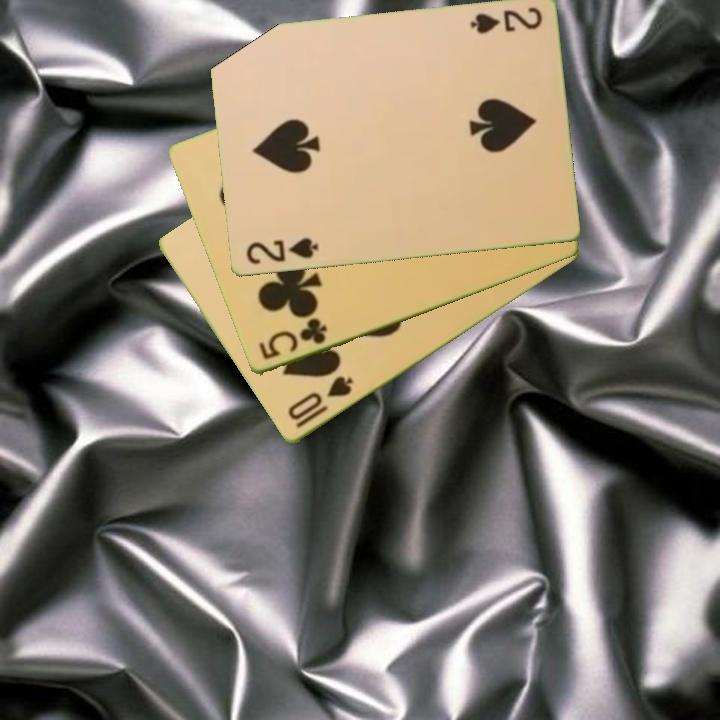10s: (284, 373, 356, 431)
2s: (242, 234, 321, 268), (466, 4, 545, 38)
5c: (255, 315, 331, 363)
